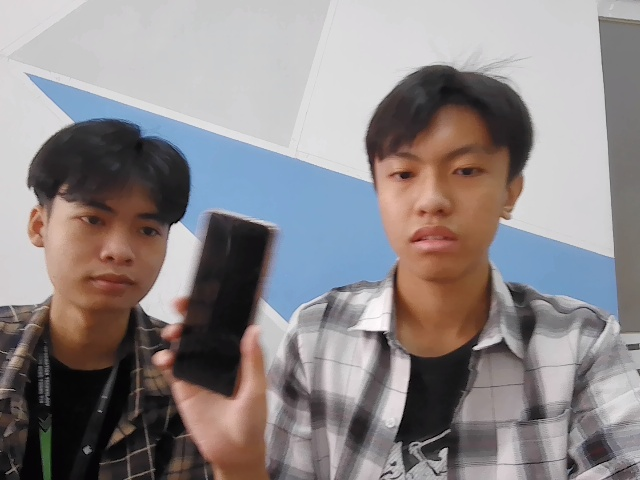human: (369, 67, 525, 287), (21, 115, 192, 313)
phone: (172, 206, 275, 398)
